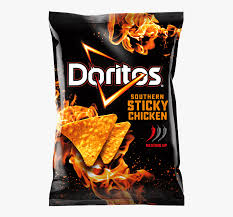Doritos: (41, 7, 195, 213)
